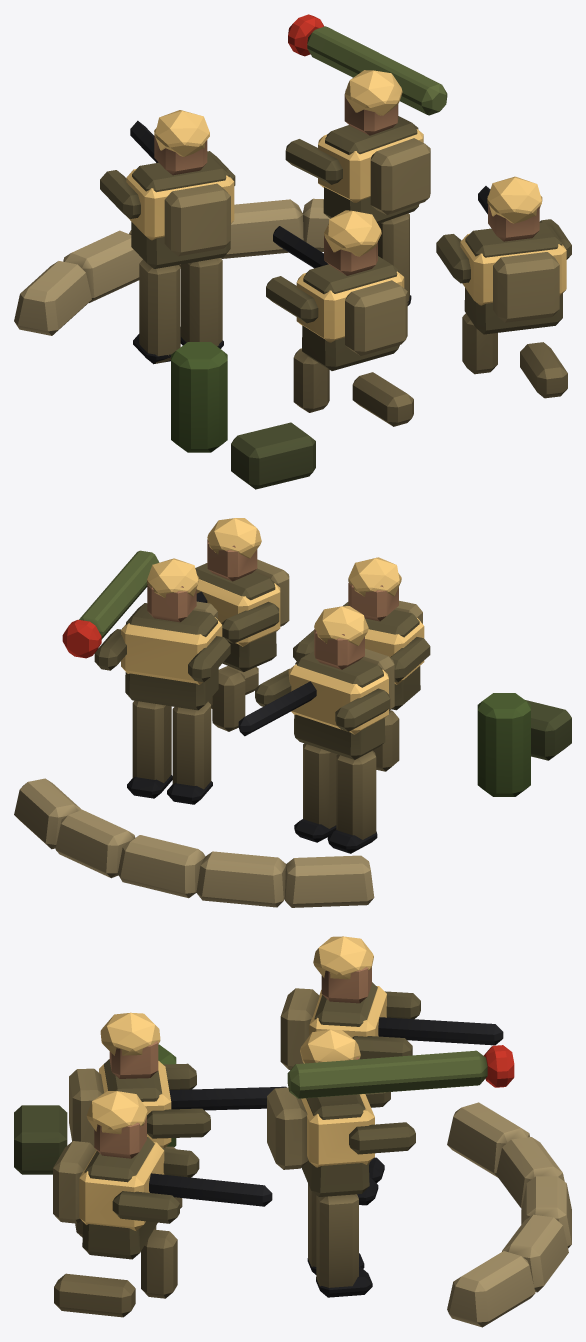
File: militia_squad.glb
The picture shows the model from 3 angles, top to bottom: view 1: azimuth 30°, elevation 25°; view 2: azimuth 150°, elevation 25°; view 3: azimuth 270°, elevation 25°; orthographic projection. The views are drawn at different scales.
Visible parts, largest first — view 1: militia_squad; view 2: militia_squad; view 3: militia_squad.
Boxes of the visible parts, x1,y1,x2,y2 form: militia_squad: (14, 14, 571, 489); militia_squad: (14, 518, 571, 907); militia_squad: (14, 936, 571, 1327).
Bounding box in the file's own units: 0.704 × 0.4185 × 0.838.
